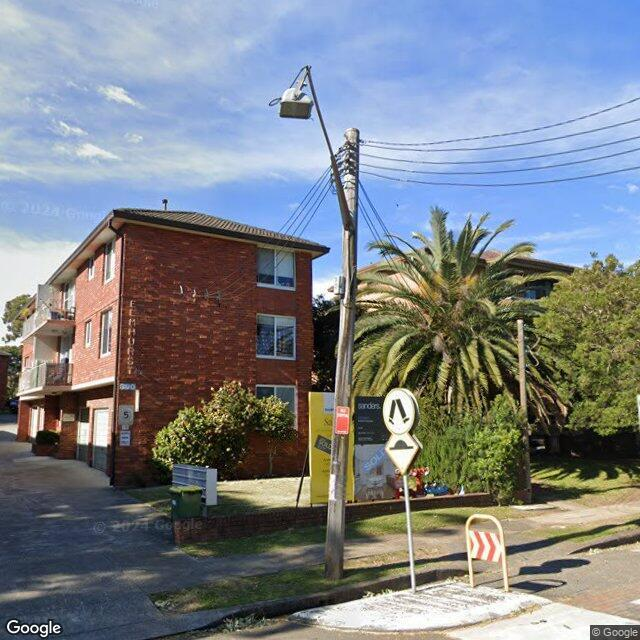streetlight: (278, 66, 350, 230)
timber-pole: (324, 128, 360, 582)
